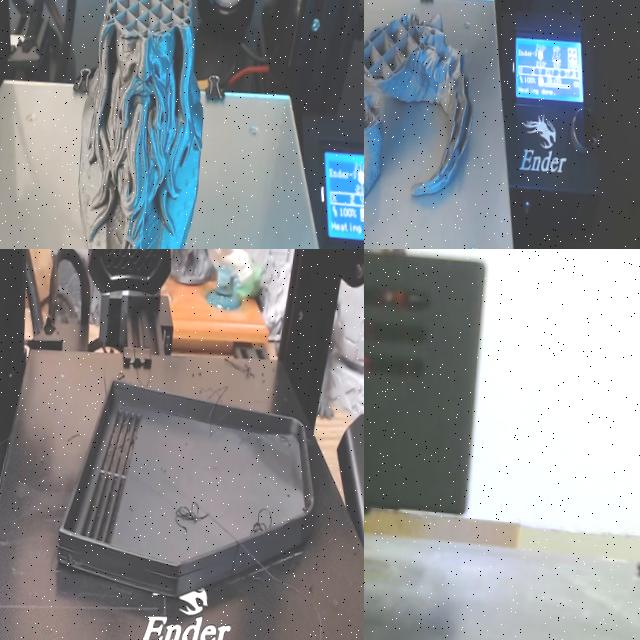spaghetti: (220, 346, 274, 392), (173, 490, 210, 536), (246, 507, 281, 539), (112, 360, 127, 380)
